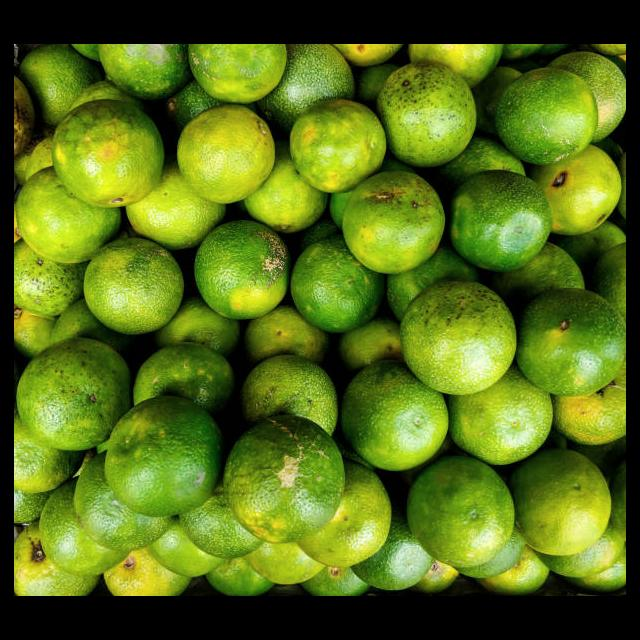lime: (224, 414, 346, 546), (326, 159, 449, 278), (401, 281, 517, 396), (52, 101, 164, 209), (454, 372, 556, 469), (193, 221, 290, 321), (384, 62, 476, 164), (546, 149, 619, 236)
